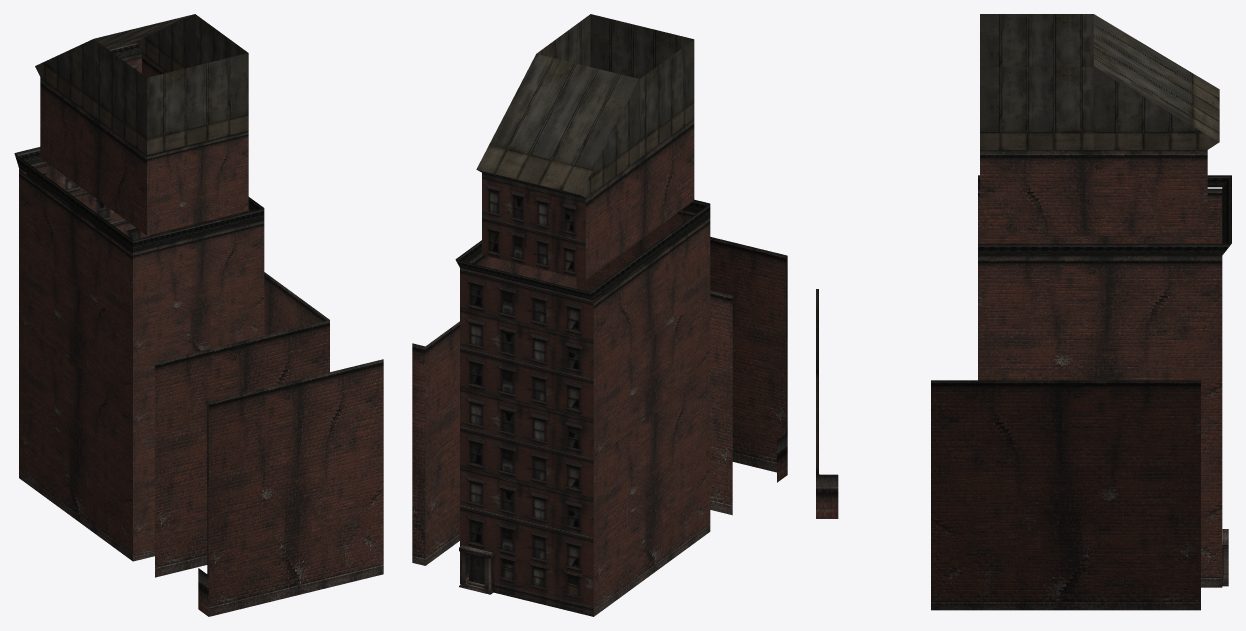
3 renders of one model, left to right at view 1: azimuth 30°, elevation 25°; view 2: azimuth 150°, elevation 25°; view 3: azimuth 270°, elevation 25°, orthographic. The views are drawn at different scales.
Visible parts, largest first — view 1: B007; view 2: B007; view 3: B007.
Part boxes in pixels (bbox=[...]): B007: bbox=[14, 14, 383, 616]; B007: bbox=[412, 14, 787, 616]; B007: bbox=[816, 14, 1231, 610].
Bounding box in the file's own units: 4.29 × 10.48 × 7.7.
Materials: 1 (1 with a texture image).
